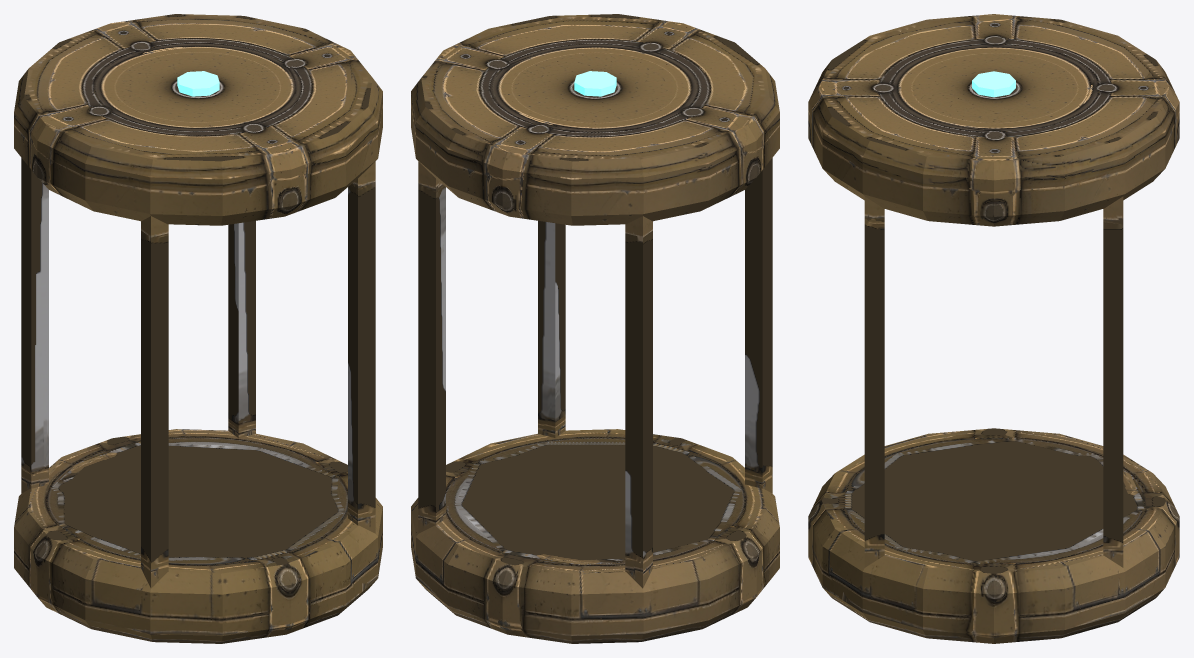
Rendered from banka-obraztsa.glb.
3 renders of one model, left to right at view 1: azimuth 30°, elevation 25°; view 2: azimuth 150°, elevation 25°; view 3: azimuth 270°, elevation 25°, orthographic.
Parts seen in each view (by area): view 1: banka-obraztsa; view 2: banka-obraztsa; view 3: banka-obraztsa.
Part boxes in pixels (box(x1,y1,x2,y2)): banka-obraztsa: box(14, 14, 382, 643); banka-obraztsa: box(411, 14, 779, 643); banka-obraztsa: box(808, 14, 1179, 643).
Size of the model in its own units: 0.22 by 0.32 by 0.22.
1 material, 1 textured.
